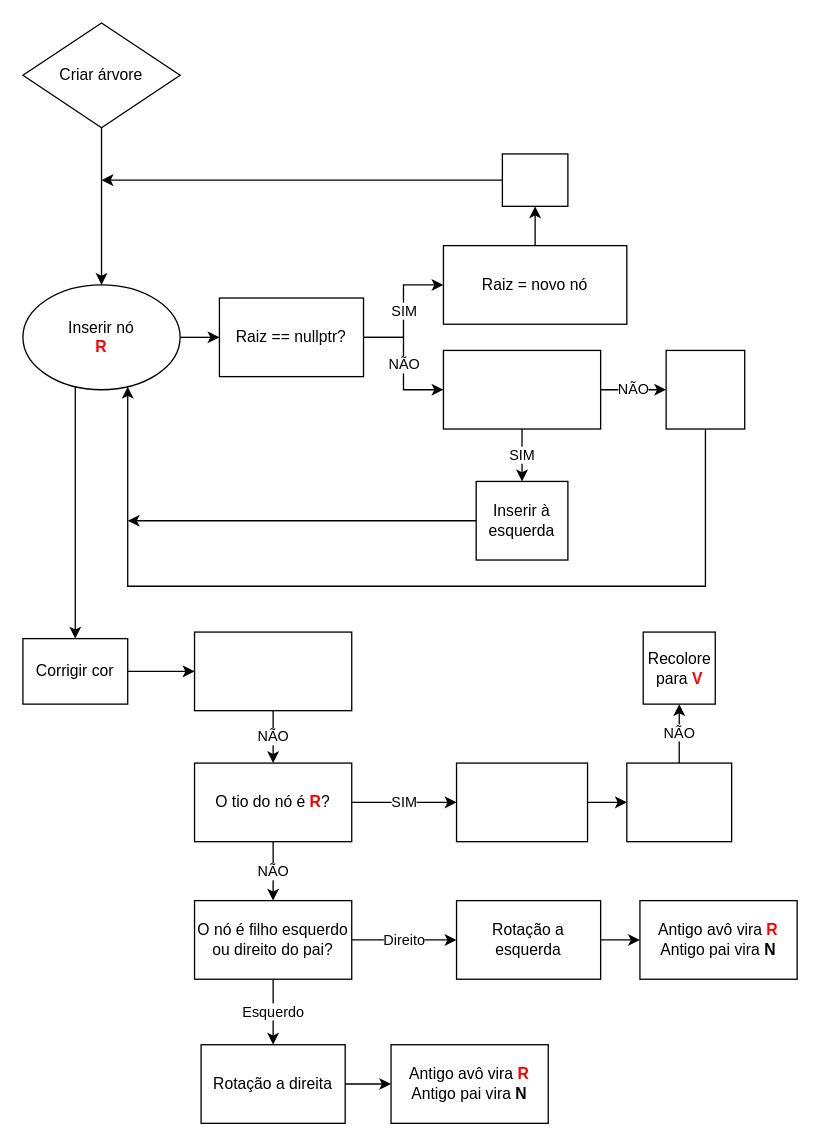
This 820x1146 diagram has some shape labels left out. The box of each missing label's shape, as (x1, y1, x2, y2) in pixels:
Avô é raiz?: (626, 762, 732, 842)
Cor = N: (501, 153, 568, 206)
Inserir à direita: (665, 349, 745, 429)
Pai é N ?: (193, 631, 352, 711)
Recolore o pai e tio para N: (455, 762, 588, 842)
Valor do filho é menor que o do pai?: (442, 349, 601, 429)
